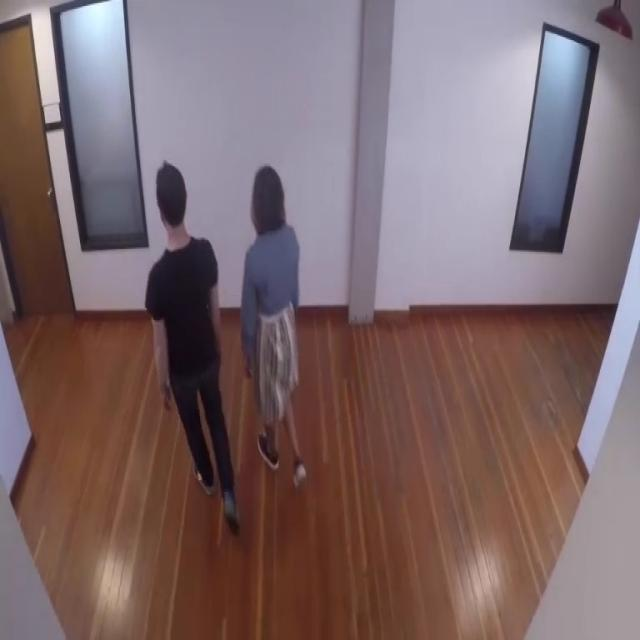Stupid: (144, 158, 239, 535), (239, 164, 307, 489)
